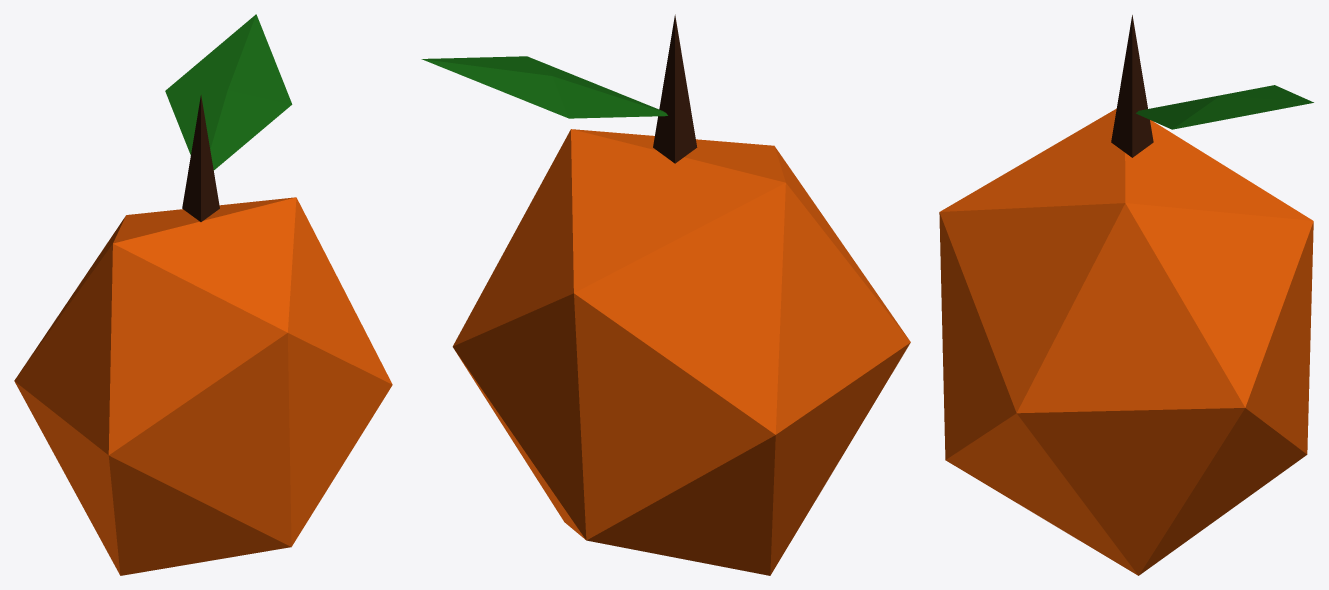
Rendered from food_fruit_a.fbx.
3 renders of one model, left to right at view 1: azimuth 30°, elevation 25°; view 2: azimuth 150°, elevation 25°; view 3: azimuth 270°, elevation 25°, orthographic. The views are drawn at different scales.
Parts seen in each view (by area): view 1: food_fruit_a; view 2: food_fruit_a; view 3: food_fruit_a.
Boxes of the visible parts, bbox=[...] form: food_fruit_a: bbox=[14, 14, 392, 575]; food_fruit_a: bbox=[421, 14, 910, 575]; food_fruit_a: bbox=[939, 15, 1313, 575].
Size of the model in its own units: 75.83 by 116 by 76.32.
